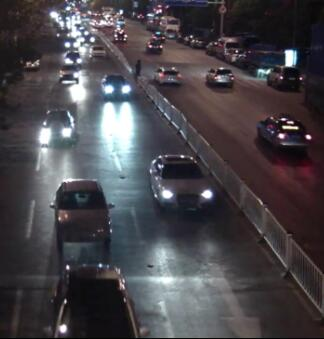bus: (158, 14, 181, 34), (144, 11, 160, 32)
car: (48, 262, 141, 336), (49, 178, 114, 251), (147, 153, 215, 214), (255, 113, 311, 151), (38, 105, 76, 147), (247, 40, 284, 75), (265, 64, 303, 93), (99, 73, 132, 99), (213, 34, 244, 58), (153, 64, 182, 87), (204, 67, 234, 89), (57, 62, 80, 84), (18, 50, 40, 70), (224, 47, 244, 66), (87, 43, 108, 61), (146, 35, 164, 53), (63, 50, 82, 66), (62, 37, 80, 51), (56, 24, 71, 40), (77, 33, 95, 46), (204, 40, 217, 56), (112, 30, 128, 42), (190, 34, 203, 48), (75, 25, 89, 37), (115, 16, 126, 26), (184, 35, 193, 47)
